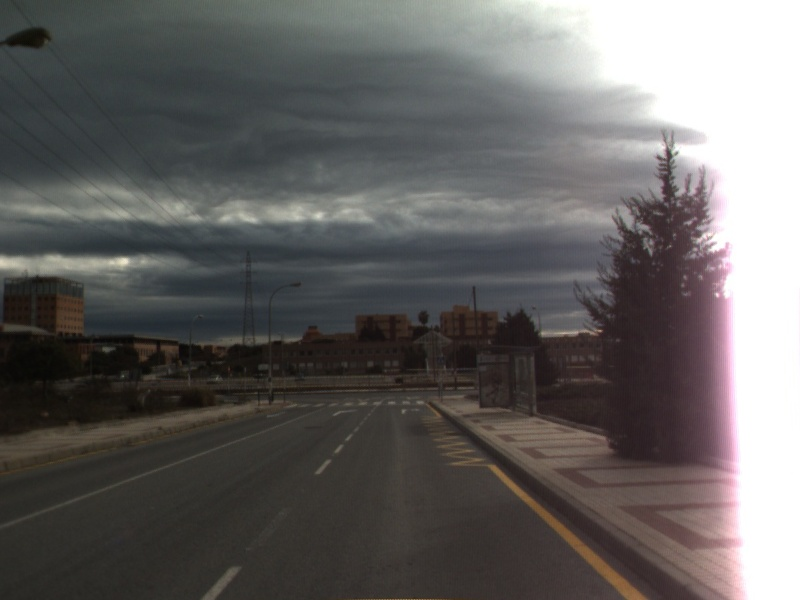RIGHT: (330, 406, 361, 418), (398, 405, 423, 416)
